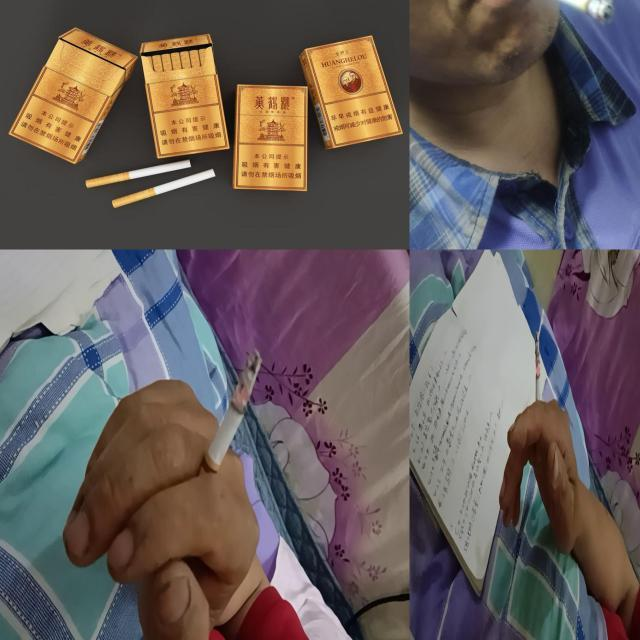cigarette: (196, 347, 262, 499), (112, 169, 216, 208), (501, 0, 616, 27), (86, 160, 192, 188), (535, 331, 541, 463)
